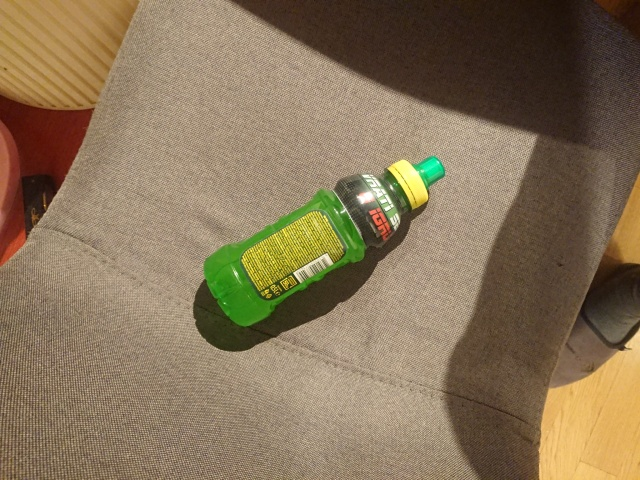Vindi Iso Sport Lemon-Grapefruit 500mL: (200, 153, 447, 330)
